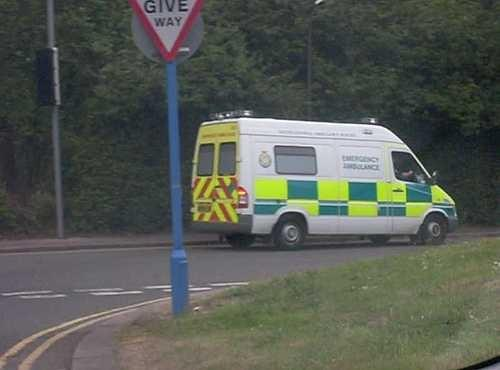car: (189, 109, 458, 250)
